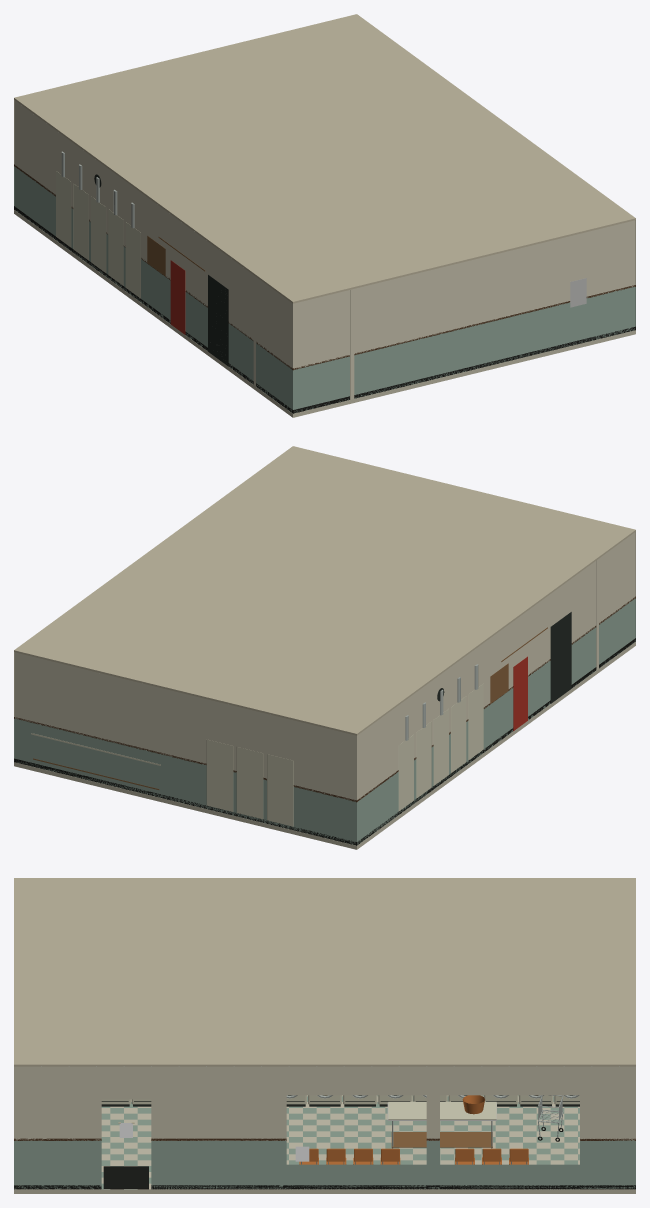
The model's file is SM_Town_Laundry_Interior.fbx.
3 views of the same model, one above another, from view 1: azimuth 30°, elevation 25°; view 2: azimuth 150°, elevation 25°; view 3: azimuth 270°, elevation 25° (orthographic). The views are drawn at different scales.
Parts seen in each view (by area): view 1: SM_Town_Laundry_Interior; view 2: SM_Town_Laundry_Interior; view 3: SM_Town_Laundry_Interior.
Boxes of the visible parts, <box> form: SM_Town_Laundry_Interior: <box>14,14,635,417</box>; SM_Town_Laundry_Interior: <box>14,446,635,849</box>; SM_Town_Laundry_Interior: <box>14,878,635,1193</box>.
Bounding box in the file's own units: 9.96 × 13.78 × 3.16.
